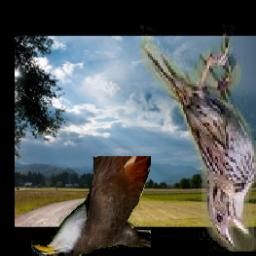Cuckoo: (32, 157, 152, 256)
Sparrow: (140, 0, 256, 252)
